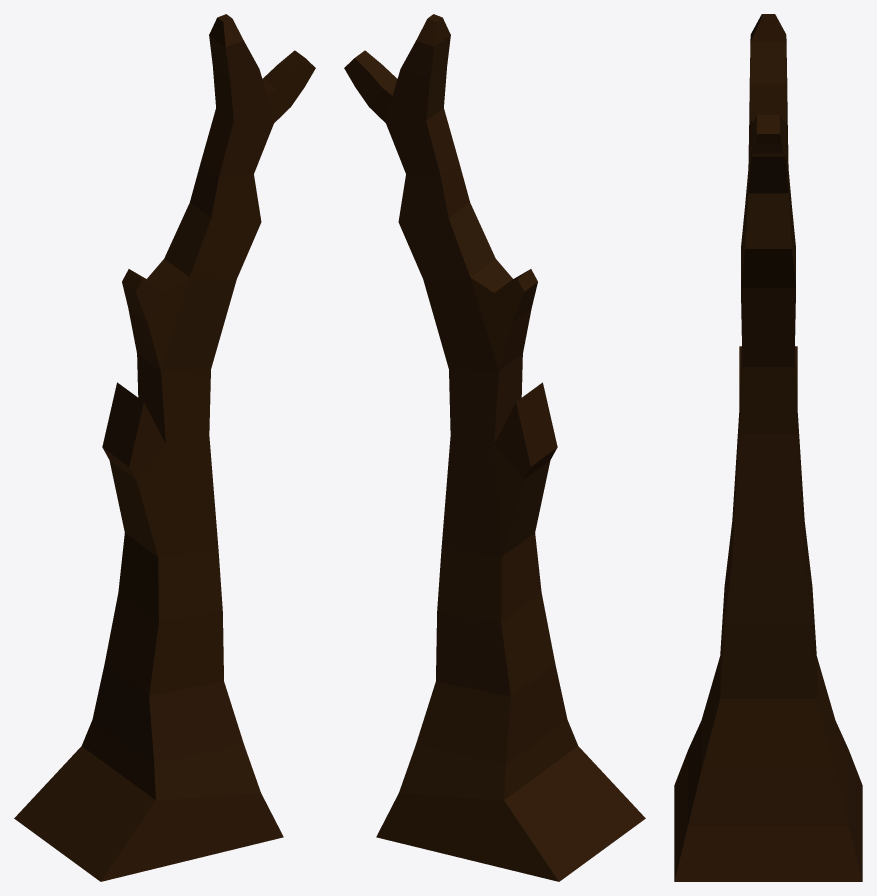
Rendered from tree2.fbx.
3 renders of one model, left to right at view 1: azimuth 30°, elevation 25°; view 2: azimuth 150°, elevation 25°; view 3: azimuth 270°, elevation 25°, orthographic. The views are drawn at different scales.
Visible parts, largest first — view 1: Tree4; view 2: Tree4; view 3: Tree4.
Part boxes in pixels (bbox=[...]): Tree4: bbox=[14, 14, 315, 881]; Tree4: bbox=[344, 14, 645, 881]; Tree4: bbox=[674, 14, 862, 881].
Size of the model in its own units: 127 by 379 by 75.12.
